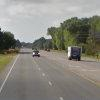Car: (27, 44, 51, 66)
